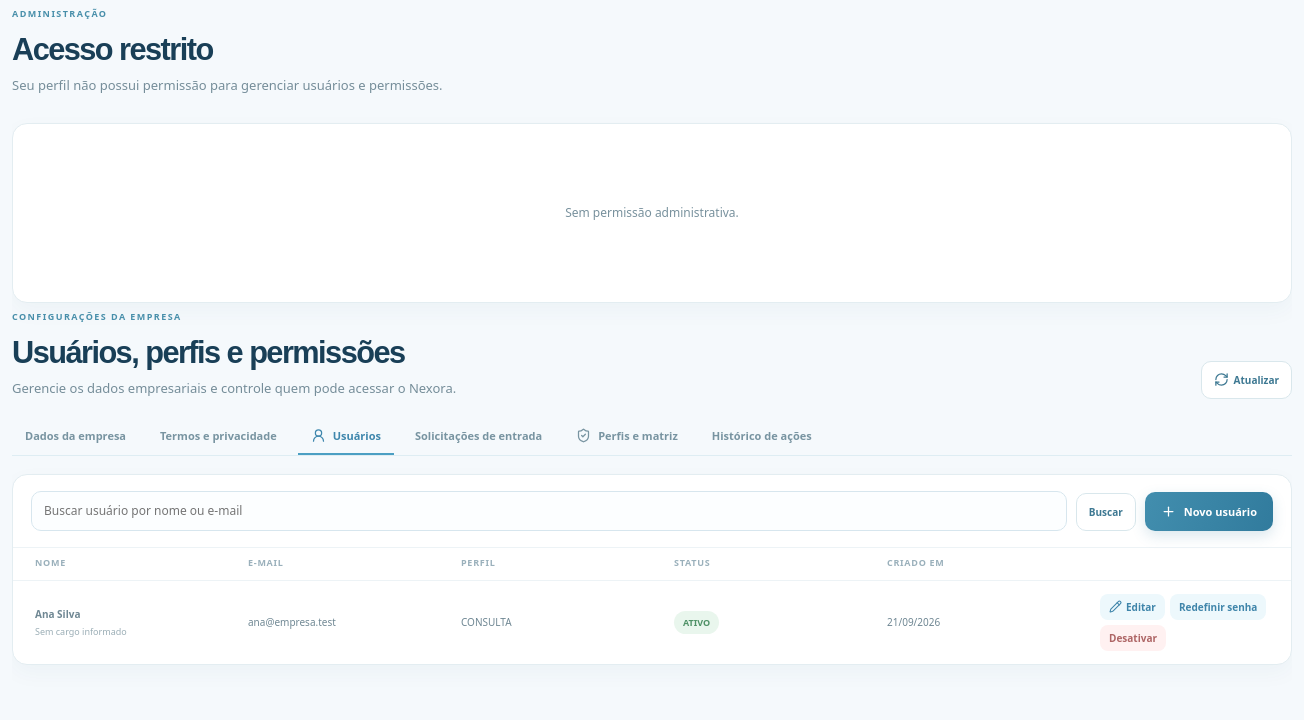
AdminPage › carrega auditoria, vazio e impede ações para usuário sem autorização
Expected: the text "Sem permissão administrativa." is shown, x1=565 y1=203 x2=739 y2=222
Expected: the text "Ana Silva" is shown, x1=35 y1=607 x2=80 y2=621
Click the button "Histórico de ações" at (762, 436), box x1=699 y1=418 x2=825 y2=455
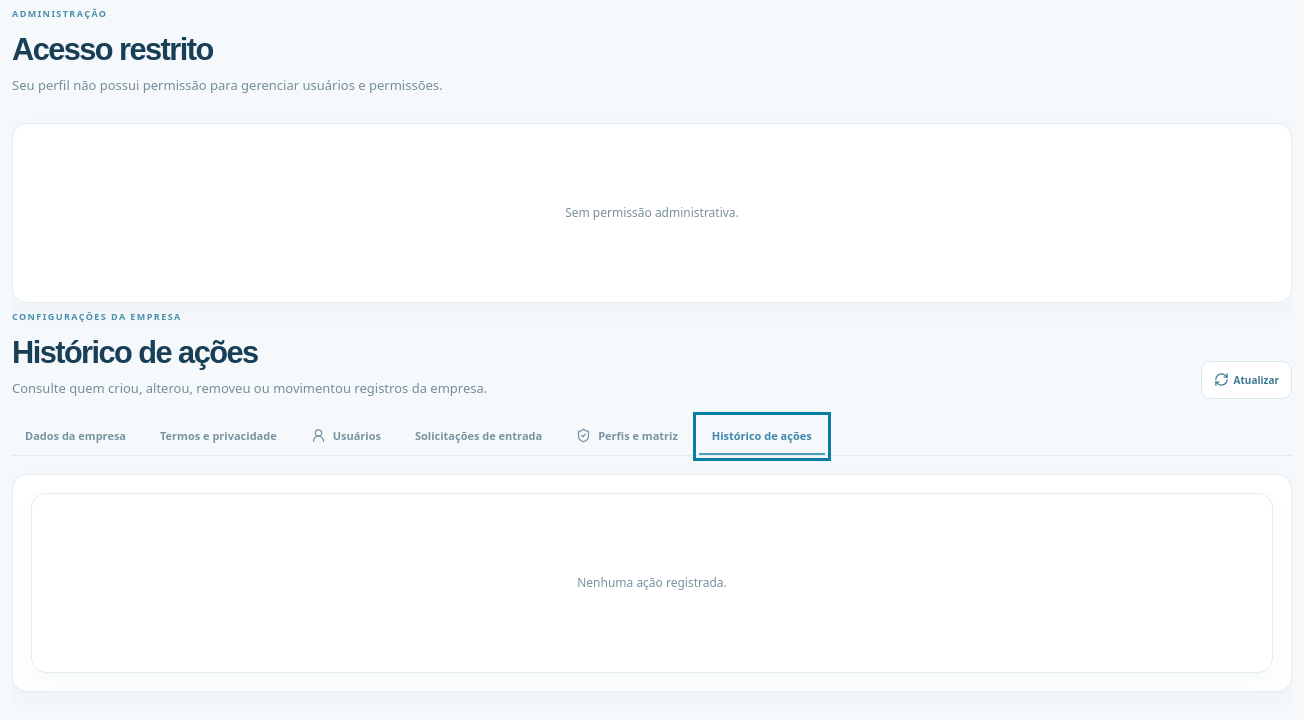
Result: the text "Nenhuma ação registrada." is shown at x1=577 y1=573 x2=727 y2=592
